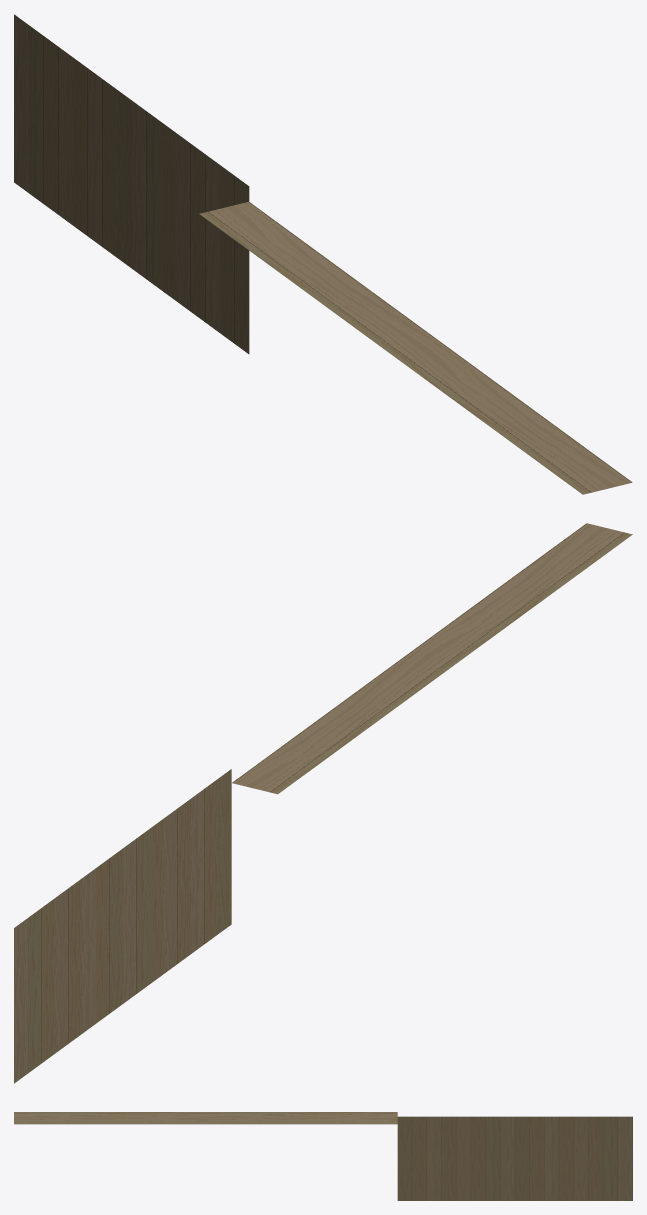
The model's file is kd_stage_135c43_4_11_bounded.glb.
The picture shows the model from 3 angles, top to bottom: view 1: azimuth 30°, elevation 25°; view 2: azimuth 150°, elevation 25°; view 3: azimuth 270°, elevation 25°; orthographic projection. The views are drawn at different scales.
Parts seen in each view (by area): view 1: kd_stage_135c43_4_11_bounded; view 2: kd_stage_135c43_4_11_bounded; view 3: kd_stage_135c43_4_11_bounded.
Part boxes in pixels (x1=…): kd_stage_135c43_4_11_bounded: x1=14, y1=14, x2=632, y2=494; kd_stage_135c43_4_11_bounded: x1=14, y1=523, x2=632, y2=1083; kd_stage_135c43_4_11_bounded: x1=14, y1=1112, x2=632, y2=1200.
Size of the model in its own units: 0.1705 by 0.5475 by 3.65.
1 material, 1 textured.
